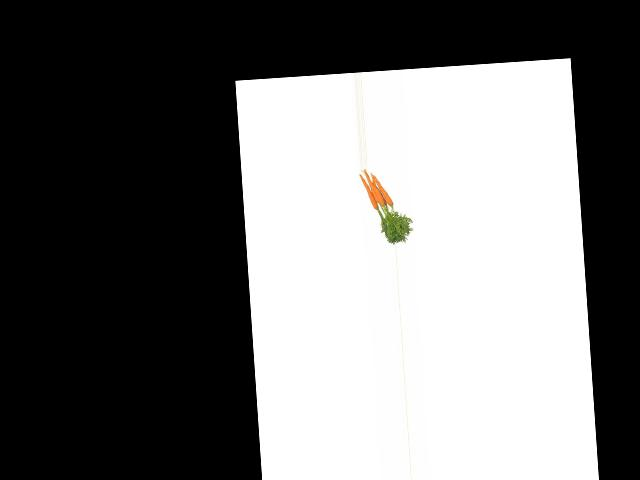carrot: (355, 171, 380, 213)
